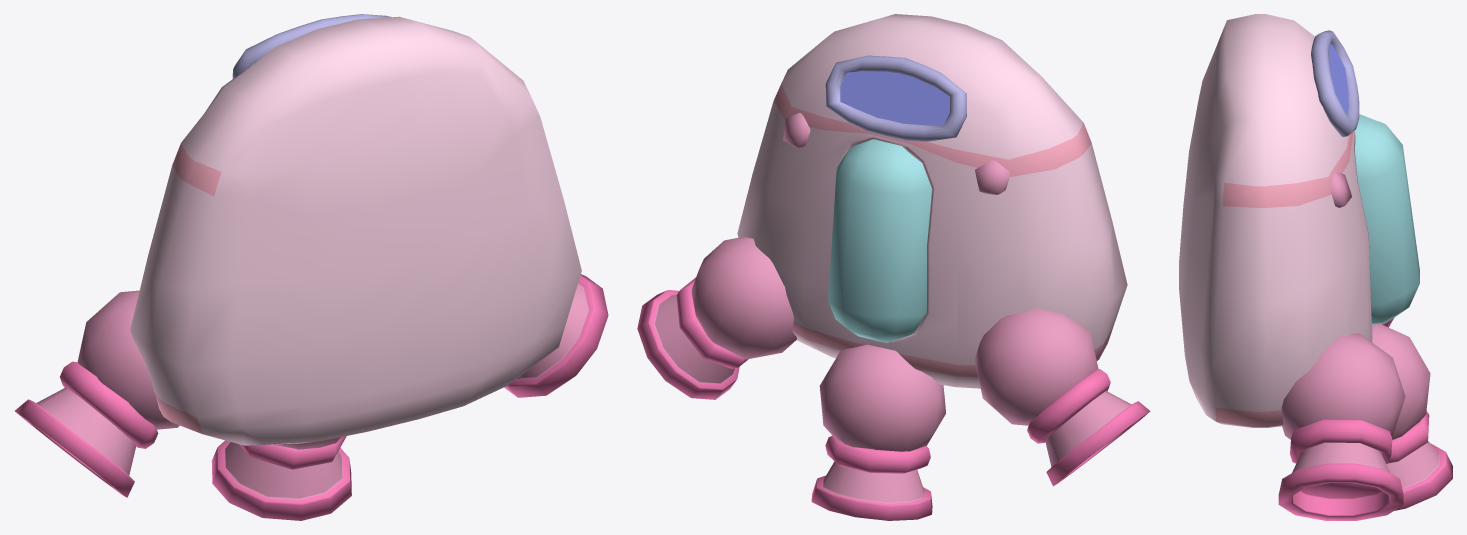
Rendered from Bunny_Jetpack.fbx.
The picture shows the model from 3 angles, left to right: view 1: azimuth 30°, elevation 25°; view 2: azimuth 150°, elevation 25°; view 3: azimuth 270°, elevation 25°; orthographic projection. The views are drawn at different scales.
Visible parts, largest first — view 1: Jetpack_Body, Jetpack_Thruster_R, Jetpack_Thruster_M, Jetpack_Thruster_L, Jetpack_ScreenBody; view 2: Jetpack_Body, Jetpack_Thruster_M, Jetpack_FuelMeter, Jetpack_Thruster_R, Jetpack_Thruster_L, Jetpack_ScreenBody, Jetpack_Screen, Jetpack_Bolts; view 3: Jetpack_Body, Jetpack_Thruster_L, Jetpack_FuelMeter, Jetpack_Thruster_M, Jetpack_ScreenBody, Jetpack_Screen, Jetpack_Bolts.
Part boxes in pixels (x1,y1,x2,y2): Jetpack_Body: (130,16,581,445); Jetpack_Thruster_R: (15,290,179,497); Jetpack_Thruster_M: (211,436,351,520); Jetpack_Thruster_L: (504,274,608,397); Jetpack_ScreenBody: (232,14,391,78); Jetpack_Body: (737,14,1127,388); Jetpack_Thruster_M: (811,344,945,520); Jetpack_FuelMeter: (828,139,931,342); Jetpack_Thruster_R: (974,308,1150,486); Jetpack_Thruster_L: (637,236,796,399); Jetpack_ScreenBody: (825,55,966,141); Jetpack_Screen: (840,71,949,126); Jetpack_Bolts: (783,113,1010,194); Jetpack_Body: (1179,14,1372,427); Jetpack_Thruster_L: (1278,333,1405,520); Jetpack_FuelMeter: (1354,114,1419,324); Jetpack_Thruster_M: (1372,324,1452,510); Jetpack_ScreenBody: (1311,30,1359,136); Jetpack_Screen: (1329,44,1348,115); Jetpack_Bolts: (1330,171,1351,207).
Bounding box in the file's own units: 26.91 × 23.25 × 12.49.
